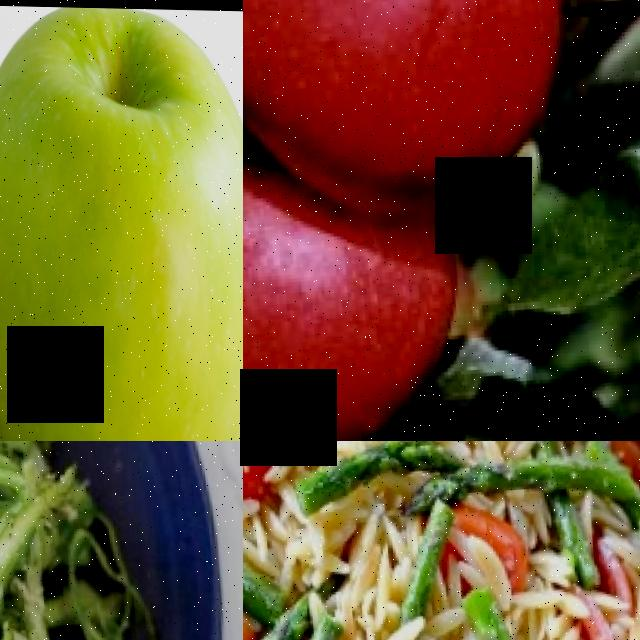apple: (0, 2, 243, 441), (243, 0, 586, 231), (243, 192, 473, 441)
asparagus: (290, 441, 465, 510), (475, 441, 640, 496), (395, 503, 449, 615)
